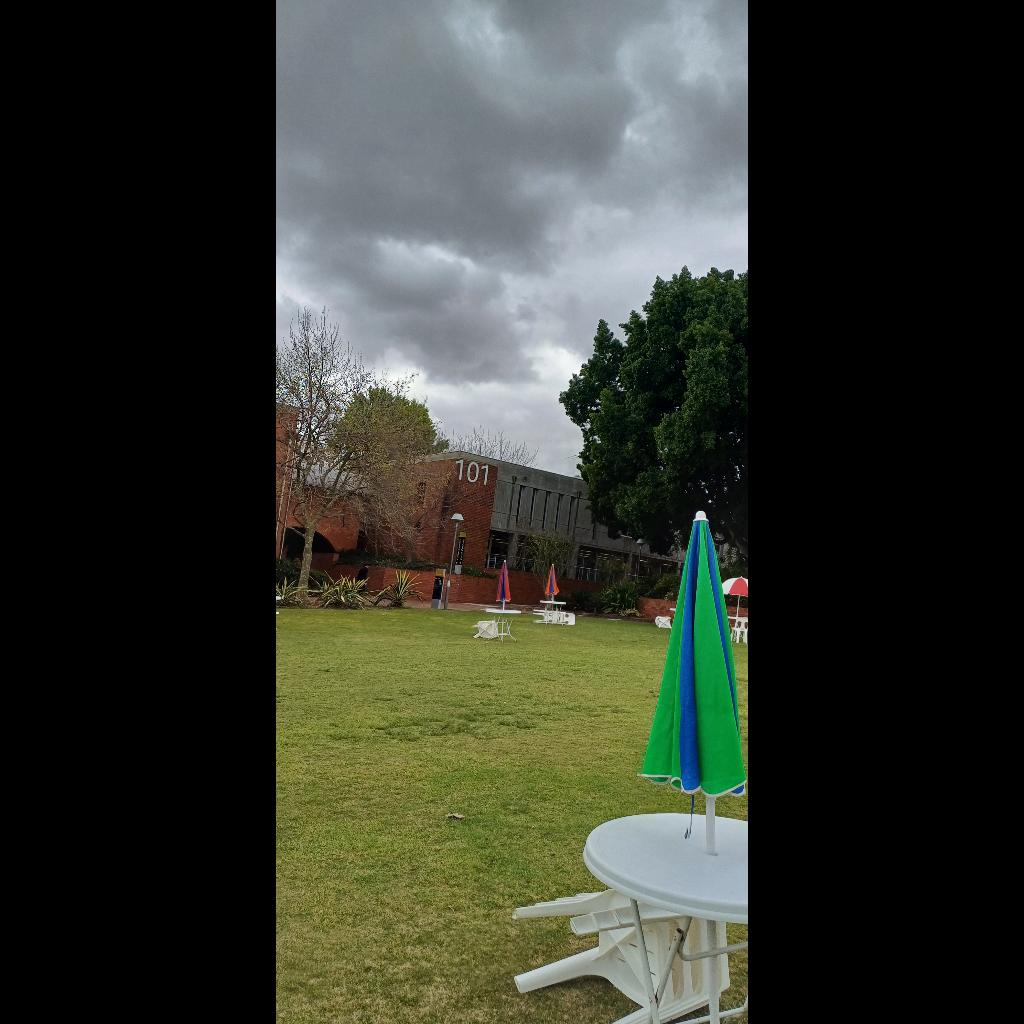BuildingCodes: (455, 457, 493, 489)
